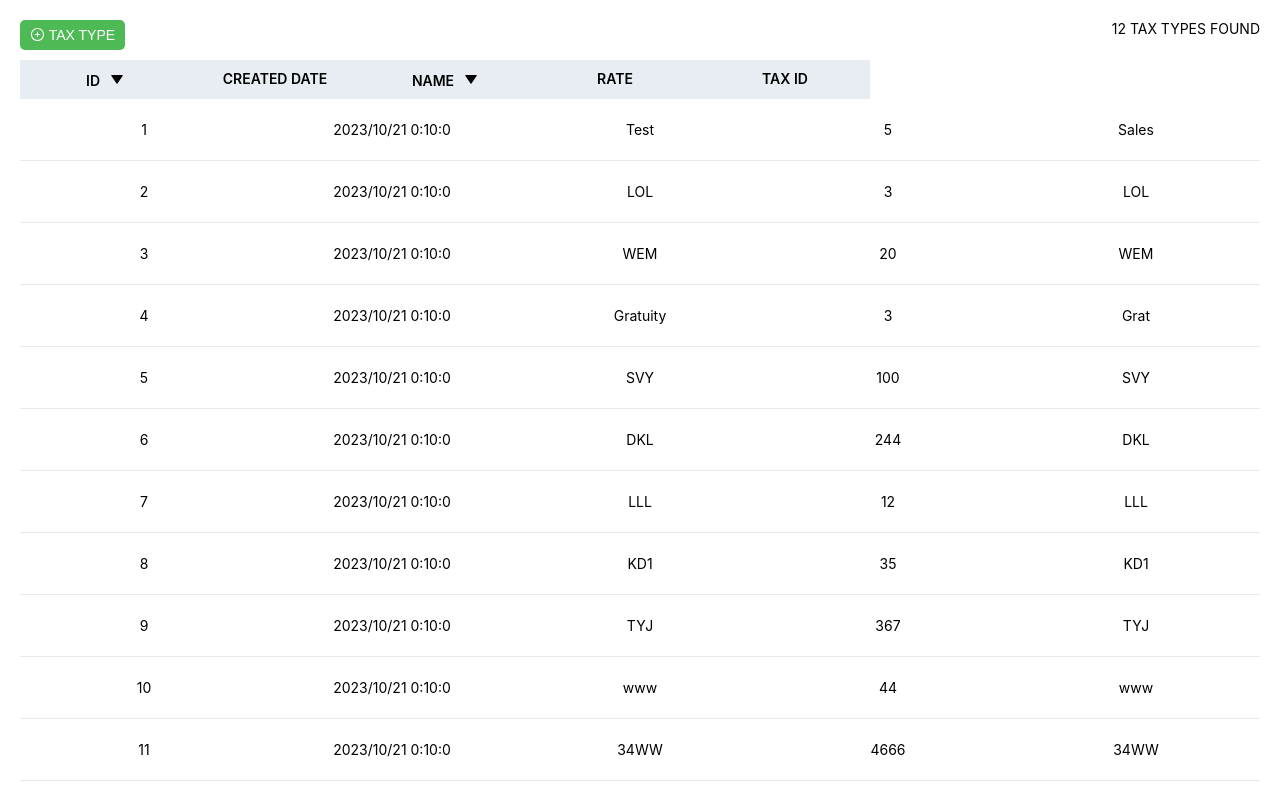
Tax Type List › should delete
Hover over the text "Sales": [1136, 130] box [1022,121,1250,138]
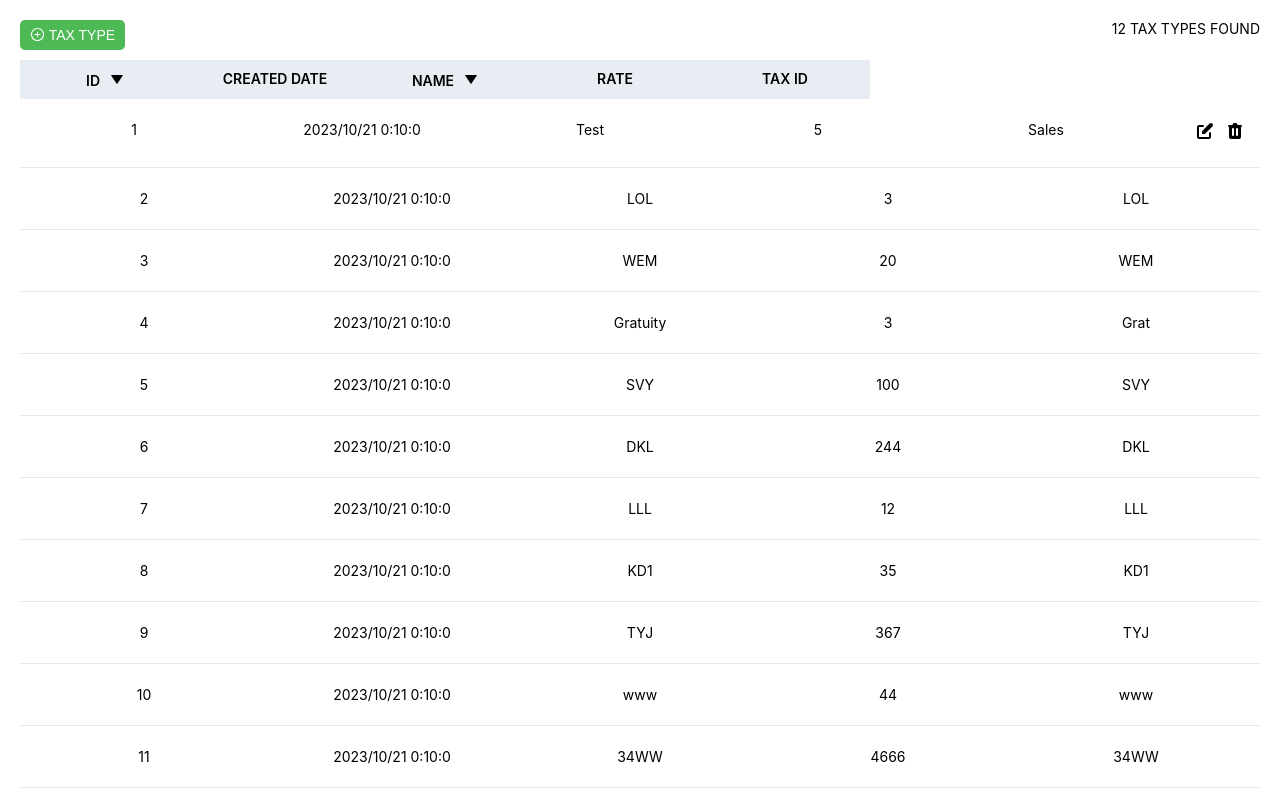
Click the icon named "delete-icon": [1235, 131] box [1220,121,1250,141]
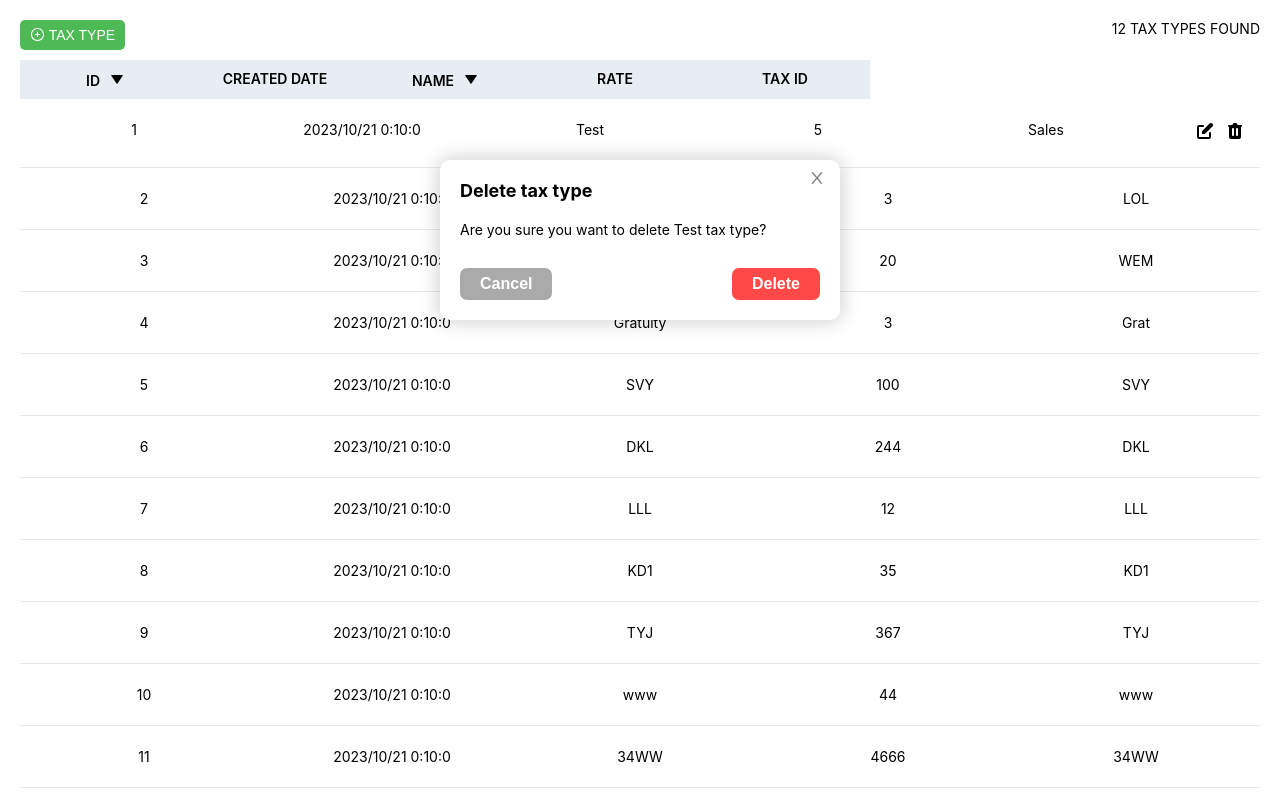
Click the button with aria-label "primary-button": [776, 284] box [732,268,820,300]
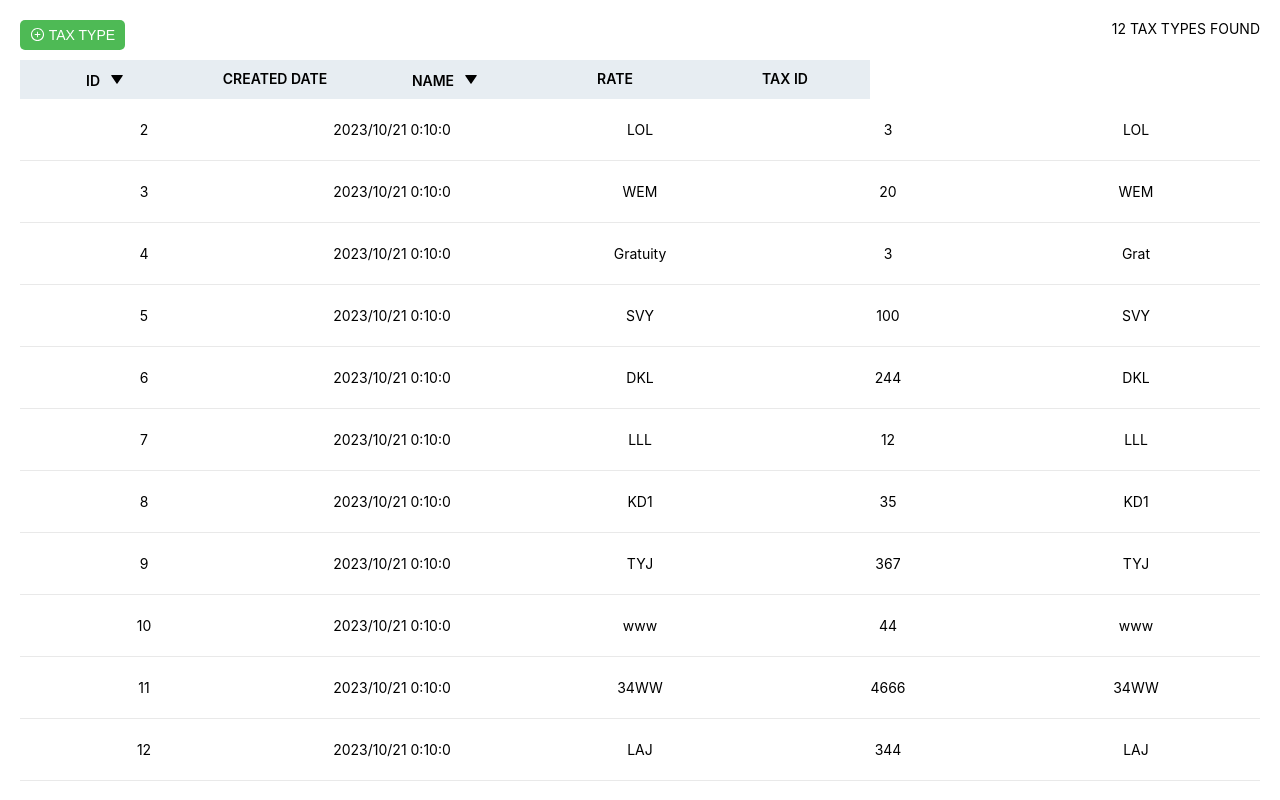
expect the text "Sales" is gone: met
